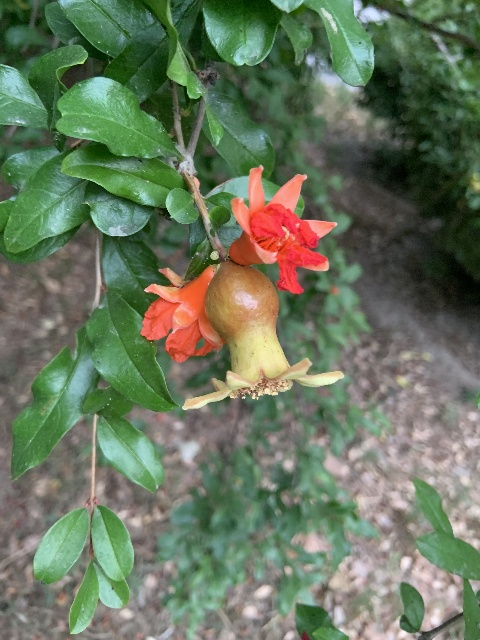early-fruit: (182, 262, 345, 410)
flower: (228, 165, 337, 293), (140, 265, 223, 362)
